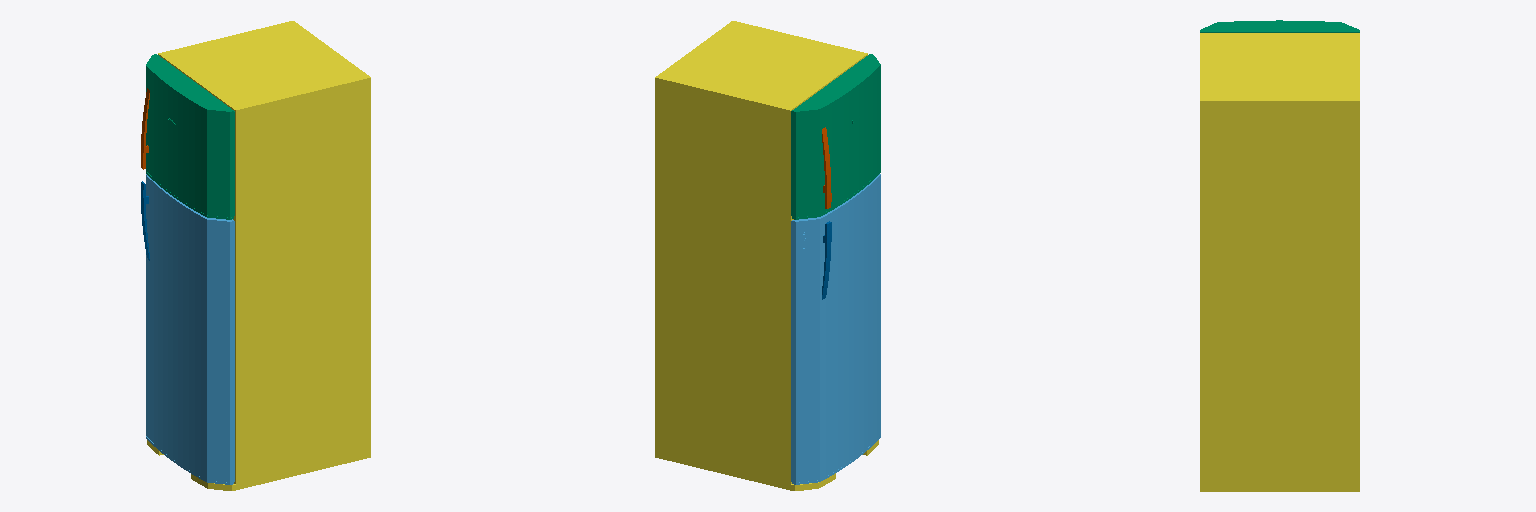
The robot description file, URDF, robot "partnet_b5b34464d1270673617724635ed7cc4b":
<?xml version="1.0" ?>
<robot name="partnet_b5b34464d1270673617724635ed7cc4b">
	<link name="base"/>
	<link name="link_0">
		<visual name="door_frame-10">
			<origin xyz="-0.30885392120163124 -0.87123 -0.26578184550122397"/>
			<geometry>
				<mesh filename="textured_objs/original-13.obj"/>
			</geometry>
		</visual>
		<visual name="door_frame-10">
			<origin xyz="-0.30885392120163124 -0.87123 -0.26578184550122397"/>
			<geometry>
				<mesh filename="textured_objs/original-14.obj"/>
			</geometry>
		</visual>
		<visual name="door_frame-10">
			<origin xyz="-0.30885392120163124 -0.87123 -0.26578184550122397"/>
			<geometry>
				<mesh filename="textured_objs/original-4.obj"/>
			</geometry>
		</visual>
		<visual name="door_frame-10">
			<origin xyz="-0.30885392120163124 -0.87123 -0.26578184550122397"/>
			<geometry>
				<mesh filename="textured_objs/original-6.obj"/>
			</geometry>
		</visual>
		<visual name="door_frame-10">
			<origin xyz="-0.30885392120163124 -0.87123 -0.26578184550122397"/>
			<geometry>
				<mesh filename="textured_objs/original-5.obj"/>
			</geometry>
		</visual>
		<visual name="door_frame-10">
			<origin xyz="-0.30885392120163124 -0.87123 -0.26578184550122397"/>
			<geometry>
				<mesh filename="textured_objs/original-7.obj"/>
			</geometry>
		</visual>
		<visual name="door_frame-10">
			<origin xyz="-0.30885392120163124 -0.87123 -0.26578184550122397"/>
			<geometry>
				<mesh filename="textured_objs/original-15.obj"/>
			</geometry>
		</visual>
		<visual name="door_frame-10">
			<origin xyz="-0.30885392120163124 -0.87123 -0.26578184550122397"/>
			<geometry>
				<mesh filename="textured_objs/original-8.obj"/>
			</geometry>
		</visual>
		<visual name="door_frame-10">
			<origin xyz="-0.30885392120163124 -0.87123 -0.26578184550122397"/>
			<geometry>
				<mesh filename="textured_objs/original-9.obj"/>
			</geometry>
		</visual>
		<visual name="door_frame-10">
			<origin xyz="-0.30885392120163124 -0.87123 -0.26578184550122397"/>
			<geometry>
				<mesh filename="textured_objs/original-10.obj"/>
			</geometry>
		</visual>
		<visual name="door_frame-10">
			<origin xyz="-0.30885392120163124 -0.87123 -0.26578184550122397"/>
			<geometry>
				<mesh filename="textured_objs/original-11.obj"/>
			</geometry>
		</visual>
		<visual name="door_frame-10">
			<origin xyz="-0.30885392120163124 -0.87123 -0.26578184550122397"/>
			<geometry>
				<mesh filename="textured_objs/original-12.obj"/>
			</geometry>
		</visual>
		<collision>
			<origin xyz="-0.30885392120163124 -0.87123 -0.26578184550122397"/>
			<geometry>
				<mesh filename="textured_objs/original-13.obj"/>
			</geometry>
		</collision>
		<collision>
			<origin xyz="-0.30885392120163124 -0.87123 -0.26578184550122397"/>
			<geometry>
				<mesh filename="textured_objs/original-14.obj"/>
			</geometry>
		</collision>
		<collision>
			<origin xyz="-0.30885392120163124 -0.87123 -0.26578184550122397"/>
			<geometry>
				<mesh filename="textured_objs/original-4.obj"/>
			</geometry>
		</collision>
		<collision>
			<origin xyz="-0.30885392120163124 -0.87123 -0.26578184550122397"/>
			<geometry>
				<mesh filename="textured_objs/original-6.obj"/>
			</geometry>
		</collision>
		<collision>
			<origin xyz="-0.30885392120163124 -0.87123 -0.26578184550122397"/>
			<geometry>
				<mesh filename="textured_objs/original-5.obj"/>
			</geometry>
		</collision>
		<collision>
			<origin xyz="-0.30885392120163124 -0.87123 -0.26578184550122397"/>
			<geometry>
				<mesh filename="textured_objs/original-7.obj"/>
			</geometry>
		</collision>
		<collision>
			<origin xyz="-0.30885392120163124 -0.87123 -0.26578184550122397"/>
			<geometry>
				<mesh filename="textured_objs/original-15.obj"/>
			</geometry>
		</collision>
		<collision>
			<origin xyz="-0.30885392120163124 -0.87123 -0.26578184550122397"/>
			<geometry>
				<mesh filename="textured_objs/original-8.obj"/>
			</geometry>
		</collision>
		<collision>
			<origin xyz="-0.30885392120163124 -0.87123 -0.26578184550122397"/>
			<geometry>
				<mesh filename="textured_objs/original-9.obj"/>
			</geometry>
		</collision>
		<collision>
			<origin xyz="-0.30885392120163124 -0.87123 -0.26578184550122397"/>
			<geometry>
				<mesh filename="textured_objs/original-10.obj"/>
			</geometry>
		</collision>
		<collision>
			<origin xyz="-0.30885392120163124 -0.87123 -0.26578184550122397"/>
			<geometry>
				<mesh filename="textured_objs/original-11.obj"/>
			</geometry>
		</collision>
		<collision>
			<origin xyz="-0.30885392120163124 -0.87123 -0.26578184550122397"/>
			<geometry>
				<mesh filename="textured_objs/original-12.obj"/>
			</geometry>
		</collision>
	</link>
	<joint name="joint_0" type="revolute">
		<origin xyz="0.30885392120163124 0.87123 0.26578184550122397"/>
		<axis xyz="0 0.9999999999999999 0"/>
		<child link="link_0"/>
		<parent link="link_2"/>
		<limit lower="-0.0" upper="3.141592653589793"/>
	</joint>
	<link name="link_1">
		<visual name="door_frame-8">
			<origin xyz="-0.30885392120163124 -0.87123 -0.26578184550122397"/>
			<geometry>
				<mesh filename="textured_objs/original-26.obj"/>
			</geometry>
		</visual>
		<visual name="door_frame-8">
			<origin xyz="-0.30885392120163124 -0.87123 -0.26578184550122397"/>
			<geometry>
				<mesh filename="textured_objs/original-27.obj"/>
			</geometry>
		</visual>
		<visual name="door_frame-8">
			<origin xyz="-0.30885392120163124 -0.87123 -0.26578184550122397"/>
			<geometry>
				<mesh filename="textured_objs/original-22.obj"/>
			</geometry>
		</visual>
		<visual name="door_frame-8">
			<origin xyz="-0.30885392120163124 -0.87123 -0.26578184550122397"/>
			<geometry>
				<mesh filename="textured_objs/original-21.obj"/>
			</geometry>
		</visual>
		<visual name="door_frame-8">
			<origin xyz="-0.30885392120163124 -0.87123 -0.26578184550122397"/>
			<geometry>
				<mesh filename="textured_objs/original-24.obj"/>
			</geometry>
		</visual>
		<visual name="door_frame-8">
			<origin xyz="-0.30885392120163124 -0.87123 -0.26578184550122397"/>
			<geometry>
				<mesh filename="textured_objs/original-25.obj"/>
			</geometry>
		</visual>
		<visual name="door_frame-8">
			<origin xyz="-0.30885392120163124 -0.87123 -0.26578184550122397"/>
			<geometry>
				<mesh filename="textured_objs/original-23.obj"/>
			</geometry>
		</visual>
		<visual name="door_frame-8">
			<origin xyz="-0.30885392120163124 -0.87123 -0.26578184550122397"/>
			<geometry>
				<mesh filename="textured_objs/original-20.obj"/>
			</geometry>
		</visual>
		<visual name="door_frame-8">
			<origin xyz="-0.30885392120163124 -0.87123 -0.26578184550122397"/>
			<geometry>
				<mesh filename="textured_objs/original-19.obj"/>
			</geometry>
		</visual>
		<visual name="door_frame-8">
			<origin xyz="-0.30885392120163124 -0.87123 -0.26578184550122397"/>
			<geometry>
				<mesh filename="textured_objs/original-28.obj"/>
			</geometry>
		</visual>
		<collision>
			<origin xyz="-0.30885392120163124 -0.87123 -0.26578184550122397"/>
			<geometry>
				<mesh filename="textured_objs/original-26.obj"/>
			</geometry>
		</collision>
		<collision>
			<origin xyz="-0.30885392120163124 -0.87123 -0.26578184550122397"/>
			<geometry>
				<mesh filename="textured_objs/original-27.obj"/>
			</geometry>
		</collision>
		<collision>
			<origin xyz="-0.30885392120163124 -0.87123 -0.26578184550122397"/>
			<geometry>
				<mesh filename="textured_objs/original-22.obj"/>
			</geometry>
		</collision>
		<collision>
			<origin xyz="-0.30885392120163124 -0.87123 -0.26578184550122397"/>
			<geometry>
				<mesh filename="textured_objs/original-21.obj"/>
			</geometry>
		</collision>
		<collision>
			<origin xyz="-0.30885392120163124 -0.87123 -0.26578184550122397"/>
			<geometry>
				<mesh filename="textured_objs/original-24.obj"/>
			</geometry>
		</collision>
		<collision>
			<origin xyz="-0.30885392120163124 -0.87123 -0.26578184550122397"/>
			<geometry>
				<mesh filename="textured_objs/original-25.obj"/>
			</geometry>
		</collision>
		<collision>
			<origin xyz="-0.30885392120163124 -0.87123 -0.26578184550122397"/>
			<geometry>
				<mesh filename="textured_objs/original-23.obj"/>
			</geometry>
		</collision>
		<collision>
			<origin xyz="-0.30885392120163124 -0.87123 -0.26578184550122397"/>
			<geometry>
				<mesh filename="textured_objs/original-20.obj"/>
			</geometry>
		</collision>
		<collision>
			<origin xyz="-0.30885392120163124 -0.87123 -0.26578184550122397"/>
			<geometry>
				<mesh filename="textured_objs/original-19.obj"/>
			</geometry>
		</collision>
		<collision>
			<origin xyz="-0.30885392120163124 -0.87123 -0.26578184550122397"/>
			<geometry>
				<mesh filename="textured_objs/original-28.obj"/>
			</geometry>
		</collision>
	</link>
	<joint name="joint_1" type="revolute">
		<origin xyz="0.30885392120163124 0.87123 0.26578184550122397"/>
		<axis xyz="0 0.9999999999999999 0"/>
		<child link="link_1"/>
		<parent link="link_2"/>
		<limit lower="-0.0" upper="3.141592653589793"/>
	</joint>
	<link name="link_2">
		<visual name="surface-4">
			<origin xyz="0 0 0"/>
			<geometry>
				<mesh filename="textured_objs/new-0.obj"/>
			</geometry>
		</visual>
		<visual name="frame-5">
			<origin xyz="0 0 0"/>
			<geometry>
				<mesh filename="textured_objs/new-1.obj"/>
			</geometry>
		</visual>
		<collision>
			<origin xyz="0 0 0"/>
			<geometry>
				<mesh filename="textured_objs/new-0.obj"/>
			</geometry>
		</collision>
		<collision>
			<origin xyz="0 0 0"/>
			<geometry>
				<mesh filename="textured_objs/new-1.obj"/>
			</geometry>
		</collision>
	</link>
	<joint name="joint_2" type="fixed">
		<origin rpy="1.570796326794897 0 -1.570796326794897" xyz="0 0 0"/>
		<child link="link_2"/>
		<parent link="base"/>
	</joint>
	<link name="link_3">
		<visual name="handle-1">
			<origin xyz="-0.30885392120163124 -0.87123 -0.26578184550122397"/>
			<geometry>
				<mesh filename="textured_objs/original-2.obj"/>
			</geometry>
		</visual>
		<collision>
			<origin xyz="-0.30885392120163124 -0.87123 -0.26578184550122397"/>
			<geometry>
				<mesh filename="textured_objs/original-2.obj" scale="1.5 2.0 1.0"/>
			</geometry>
		</collision>
	</link>
	<joint name="joint_3" type="fixed">
		<origin rpy="0 0 0" xyz="0 0 0"/>
		<child link="link_3"/>
		<parent link="link_0"/>
	</joint>
	<link name="link_4">
		<visual name="handle-1">
			<origin xyz="-0.30885392120163124 -0.87123 -0.26578184550122397"/>
			<geometry>
				<mesh filename="textured_objs/original-17.obj"/>
			</geometry>
		</visual>
		<collision>
			<origin xyz="-0.30885392120163124 -0.87123 -0.26578184550122397"/>
			<geometry>
				<mesh filename="textured_objs/original-17.obj" scale="1.5 2.0 1.0"/>
			</geometry>
		</collision>
	</link>
	<joint name="joint_4" type="fixed">
		<origin rpy="0 0 0" xyz="0 0 0"/>
		<child link="link_4"/>
		<parent link="link_1"/>
	</joint>
</robot>

--- Render facts (derived) ---
Views: 3 orthographic renders of the robot side by side, from view 1: azimuth 30°, elevation 25°; view 2: azimuth 150°, elevation 25°; view 3: azimuth 270°, elevation 25°.
Robot: partnet_b5b34464d1270673617724635ed7cc4b — 6 links, 5 joints (2 revolute, 3 fixed); root link base; default pose: every joint at zero.
Visible links, largest first — view 1: link_2, link_0, link_1; view 2: link_2, link_0, link_1; view 3: link_2, link_1.
Boxes of the visible links, box(x1,y1,x2,y2) form: link_2: box(147, 21, 370, 490); link_0: box(146, 174, 234, 484); link_1: box(146, 54, 234, 219); link_2: box(655, 21, 878, 490); link_0: box(791, 174, 880, 484); link_1: box(791, 54, 880, 219); link_2: box(1200, 33, 1359, 491); link_1: box(1200, 20, 1359, 32).
Bounding box of the posed robot: 0.8097 × 0.6705 × 1.8 m (x, y, z).
26 mesh visuals loaded from 26 distinct referenced files (26 OBJ).
